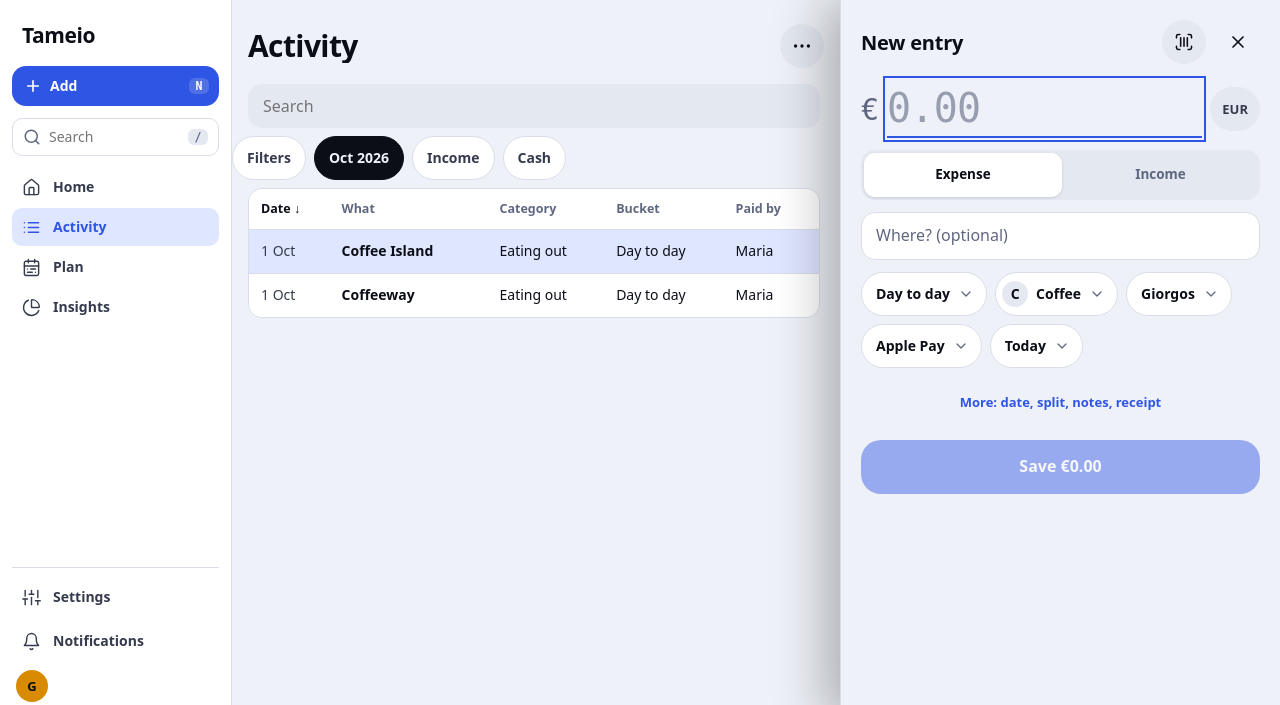
Test case: with the pane open, Esc in a dirty panel asks once and keeps the pane
Type "5" into the field named "Amount".
click(1045, 109); type("5")  # box x1=887 y1=80 x2=1202 y2=138
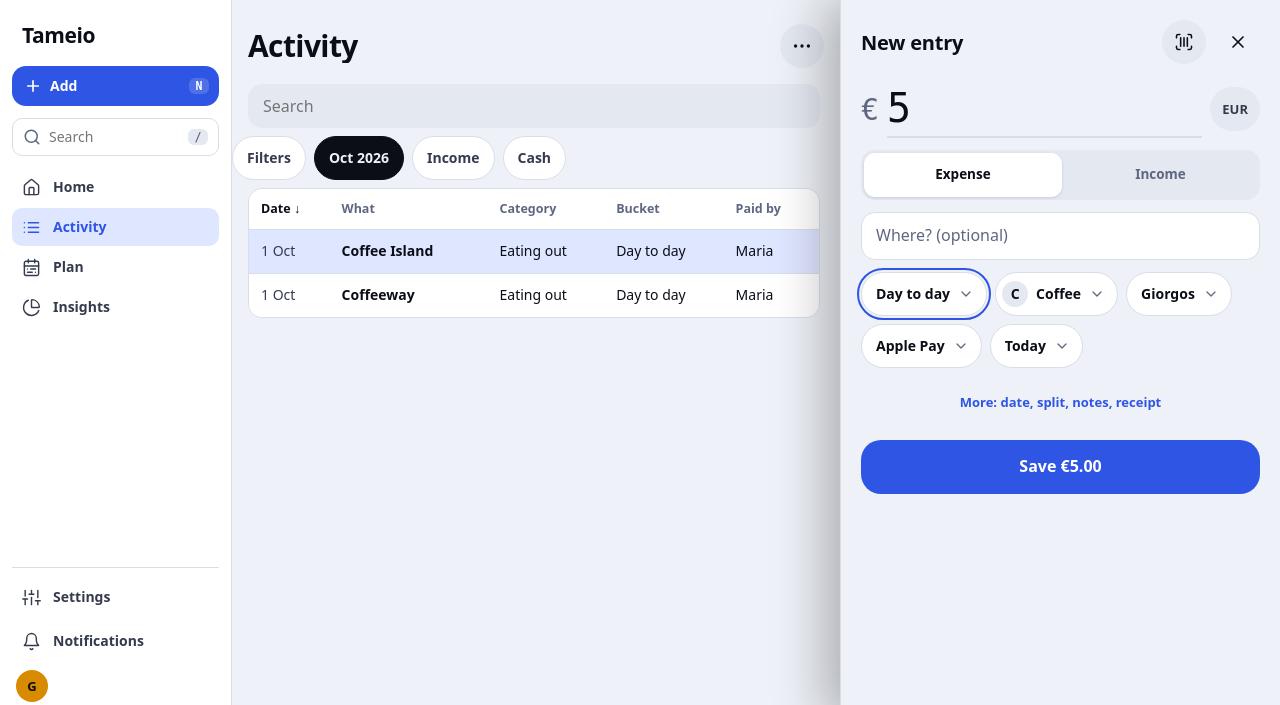
Press Escape
(page scrolled)
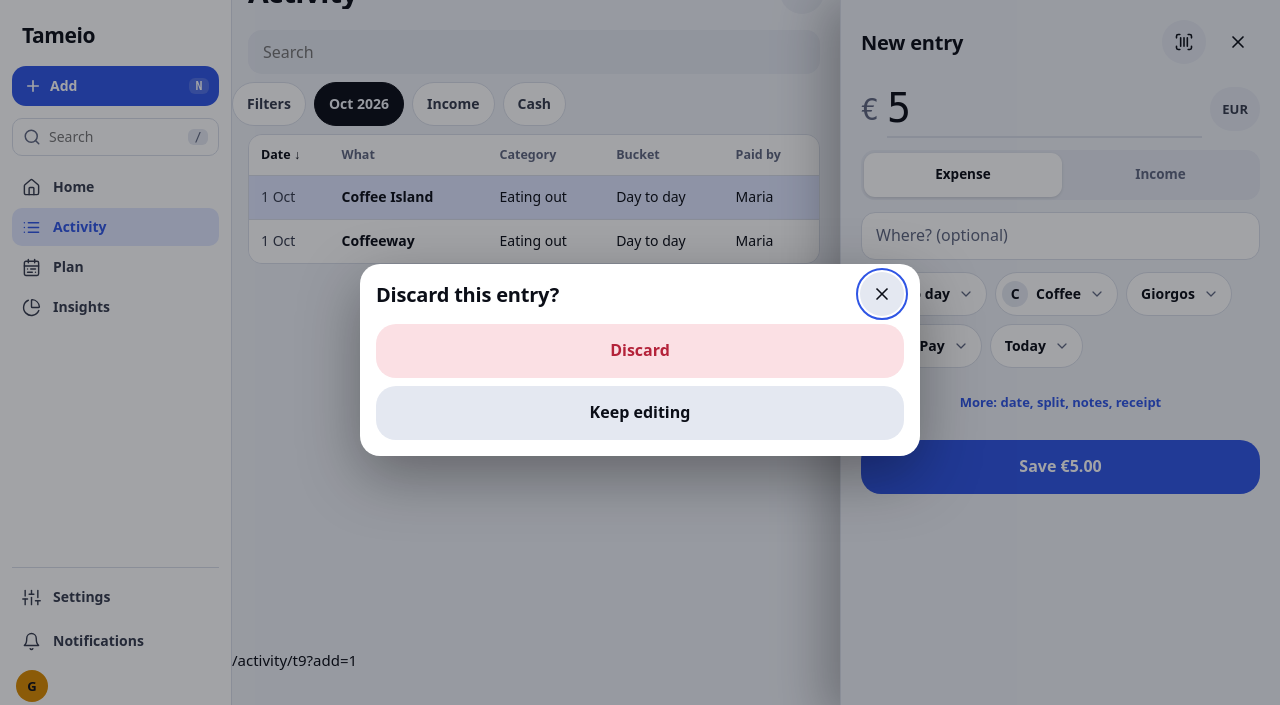
expect the text with test id "where" reads "/activity/t9?add=1": met, box x1=232 y1=650 x2=357 y2=670
expect the number of dialogs "Discard this entry?" is 1: met, box x1=360 y1=264 x2=920 y2=456
